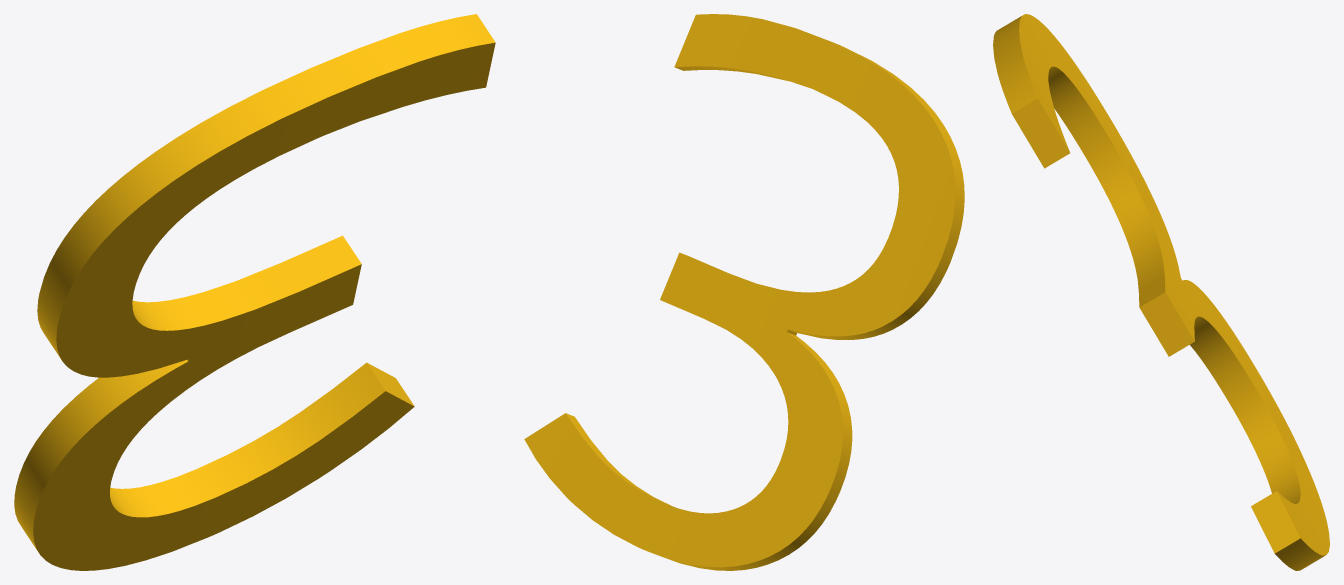
The model's file is Number_3.gltf.
The picture shows the model from 3 angles, left to right: view 1: azimuth 30°, elevation 25°; view 2: azimuth 150°, elevation 25°; view 3: azimuth 270°, elevation 25°; orthographic projection. The views are drawn at different scales.
Visible parts, largest first — view 1: Sub_2_Cell_1_1_Number_3; view 2: Sub_2_Cell_1_1_Number_3; view 3: Sub_2_Cell_1_1_Number_3.
Boxes of the visible parts, bbox=[...] form: Sub_2_Cell_1_1_Number_3: bbox=[14, 14, 495, 570]; Sub_2_Cell_1_1_Number_3: bbox=[524, 14, 964, 570]; Sub_2_Cell_1_1_Number_3: bbox=[993, 14, 1329, 570].
Size of the model in its own units: 0.0187 by 0.0236 by 0.014.
